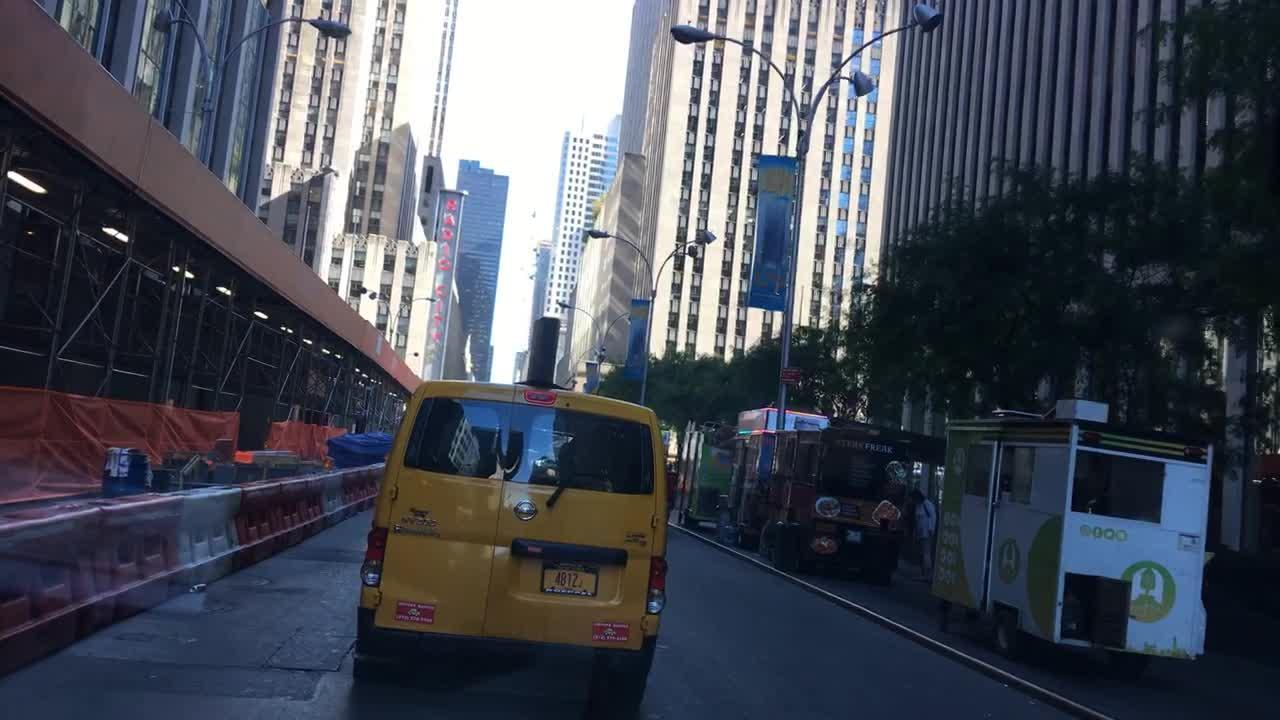Nissan: (512, 497, 542, 525)
